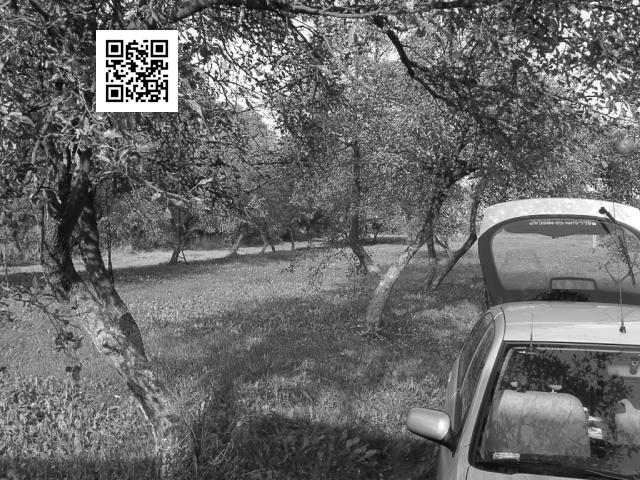qr_code: (96, 30, 178, 110)
